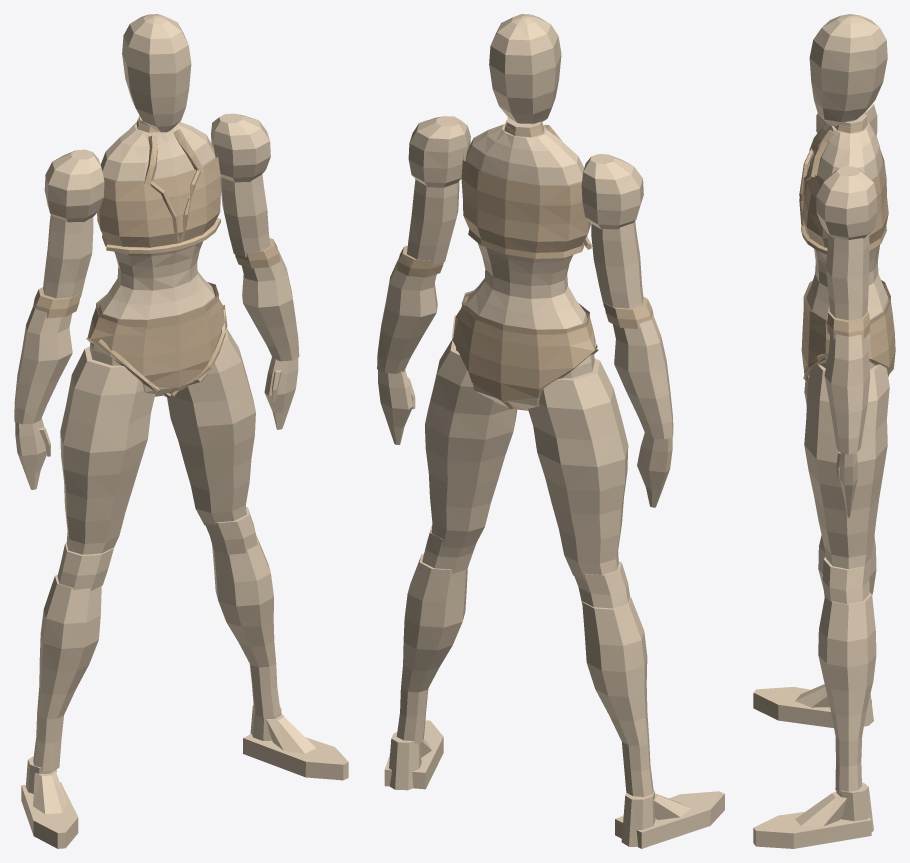
The model's file is female-heroic-2.glb.
The picture shows the model from 3 angles, left to right: view 1: azimuth 30°, elevation 25°; view 2: azimuth 150°, elevation 25°; view 3: azimuth 270°, elevation 25°; orthographic projection. The views are drawn at different scales.
Parts seen in each view (by area): view 1: leg_upper_l, torso, leg_upper_r, leg_lower_l, sports_top, leg_lower_r, briefs, head, arm_lower_l, arm_lower_r, shoulder_cap_l, arm_upper_l (+14 smaller); view 2: leg_upper_l, torso, leg_upper_r, sports_top, leg_lower_l, briefs, leg_lower_r, head, arm_lower_l, arm_lower_r, shoulder_cap_l, shoulder_cap_r (+13 smaller); view 3: leg_upper_r, leg_lower_r, head, torso, arm_lower_r, shoulder_cap_r, arm_upper_r, foot_r, briefs, sports_top, foot_l, knee_r (+9 smaller).
Boxes of the visible parts, box(x1,y1,x2,y2) form: leg_upper_l: box(60, 346, 155, 554); torso: box(90, 122, 215, 396); leg_upper_r: box(167, 328, 255, 525); leg_lower_l: box(33, 574, 101, 771); sports_top: box(97, 147, 220, 247); leg_lower_r: box(212, 535, 280, 717); briefs: box(86, 284, 227, 394); head: box(122, 14, 191, 132); arm_lower_l: box(14, 304, 72, 424); arm_lower_r: box(242, 250, 299, 361); shoulder_cap_l: box(44, 149, 104, 222); arm_upper_l: box(43, 214, 93, 298); leg_upper_l: box(528, 358, 628, 581); torso: box(456, 123, 594, 410); leg_upper_r: box(425, 339, 516, 548); sports_top: box(461, 154, 590, 258); leg_lower_l: box(582, 596, 653, 796); briefs: box(451, 293, 598, 408); leg_lower_r: box(396, 554, 467, 743); head: box(489, 14, 561, 124); arm_lower_l: box(613, 314, 673, 439); arm_lower_r: box(377, 258, 437, 373); shoulder_cap_l: box(581, 154, 643, 229); shoulder_cap_r: box(408, 116, 470, 187); leg_upper_r: box(804, 364, 889, 569); leg_lower_r: box(818, 592, 876, 794); head: box(809, 14, 887, 126); torso: box(806, 120, 888, 376); arm_lower_r: box(824, 334, 870, 454); shoulder_cap_r: box(816, 166, 877, 239); arm_upper_r: box(826, 234, 869, 320); foot_r: box(753, 812, 871, 848); briefs: box(801, 282, 895, 375); sports_top: box(801, 151, 888, 250); foot_l: box(753, 687, 871, 728); knee_r: box(822, 557, 870, 604).
Size of the model in its own units: 0.7125 by 1.72 by 0.2923.
